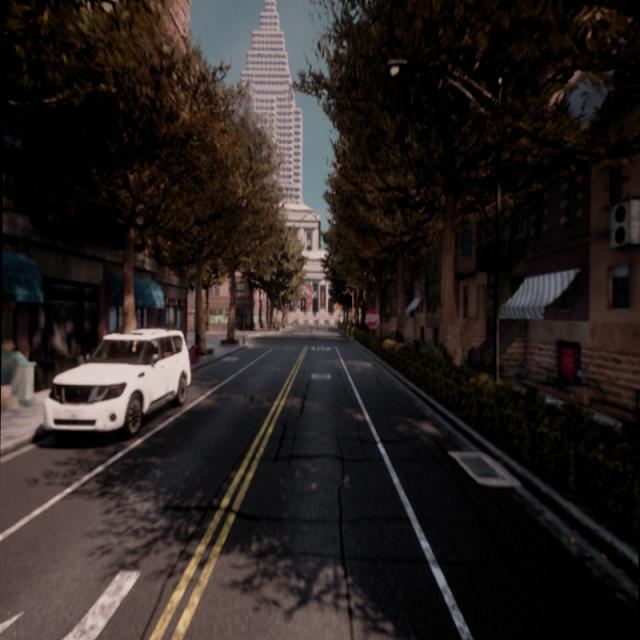stop sign: (362, 305, 380, 331)
